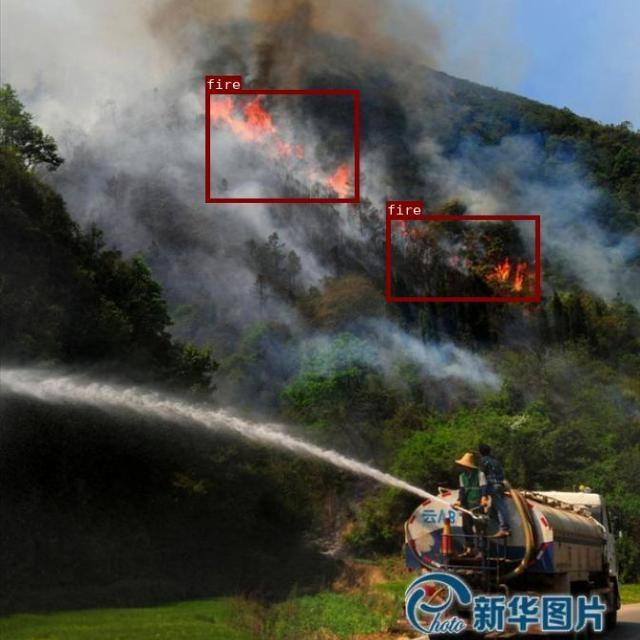fire: (205, 90, 358, 202), (386, 215, 539, 300)
